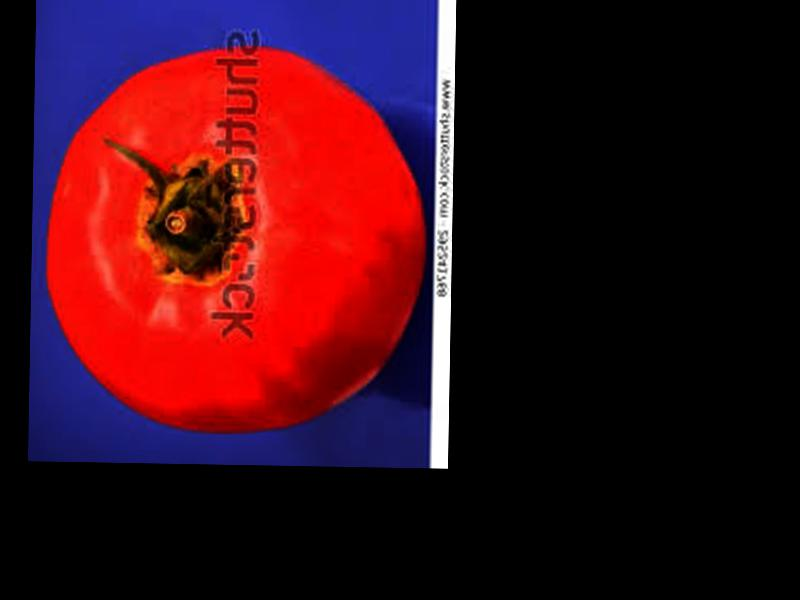Tomato: (43, 42, 422, 437)
